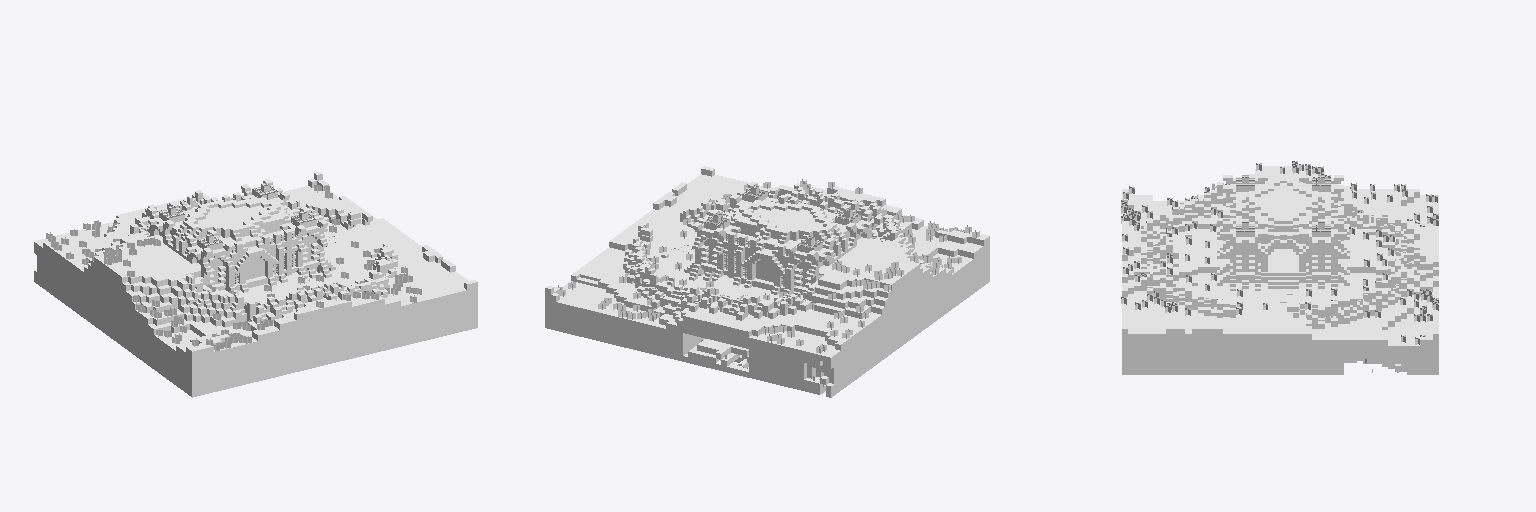
Rendered from supersmelter.obj.
3 views of the same model, side by side, from view 1: azimuth 30°, elevation 25°; view 2: azimuth 150°, elevation 25°; view 3: azimuth 270°, elevation 25° (orthographic).
Parts seen in each view (by area): view 1: Etho's_LP_Ep550__-141_60_481_to_-90_167_530; view 2: Etho's_LP_Ep550__-141_60_481_to_-90_167_530; view 3: Etho's_LP_Ep550__-141_60_481_to_-90_167_530.
Part boxes in pixels (x1,y1,x2,y2): Etho's_LP_Ep550__-141_60_481_to_-90_167_530: (34, 172, 477, 397); Etho's_LP_Ep550__-141_60_481_to_-90_167_530: (545, 166, 989, 397); Etho's_LP_Ep550__-141_60_481_to_-90_167_530: (1121, 161, 1438, 374).
Size of the model in its own units: 52.03 by 17 by 50.13.